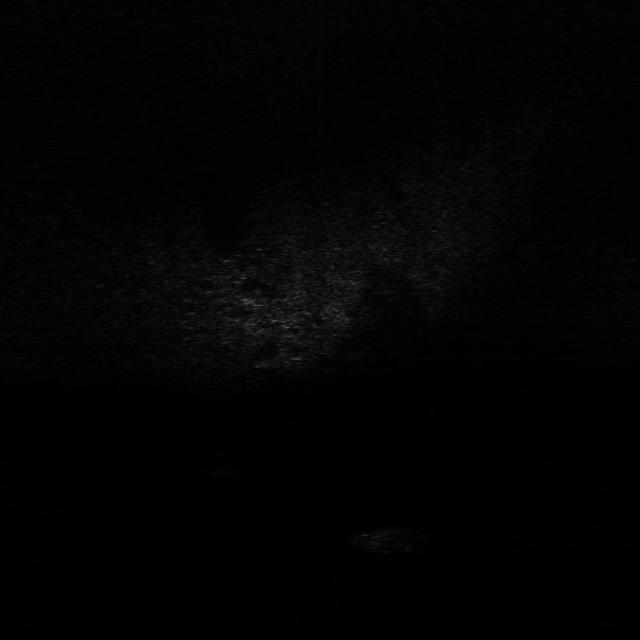ball: (206, 450, 240, 475)
circle cage: (350, 521, 430, 561)
